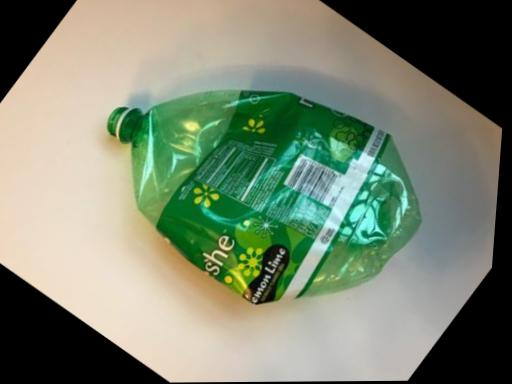plastic: (49, 0, 472, 361)
